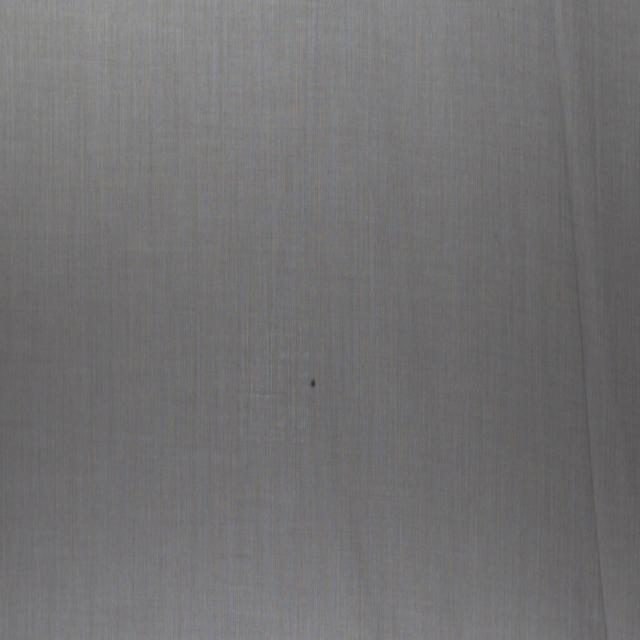dirty: (310, 379, 316, 389)
